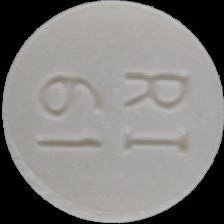54868-6423: (0, 0, 224, 224)
